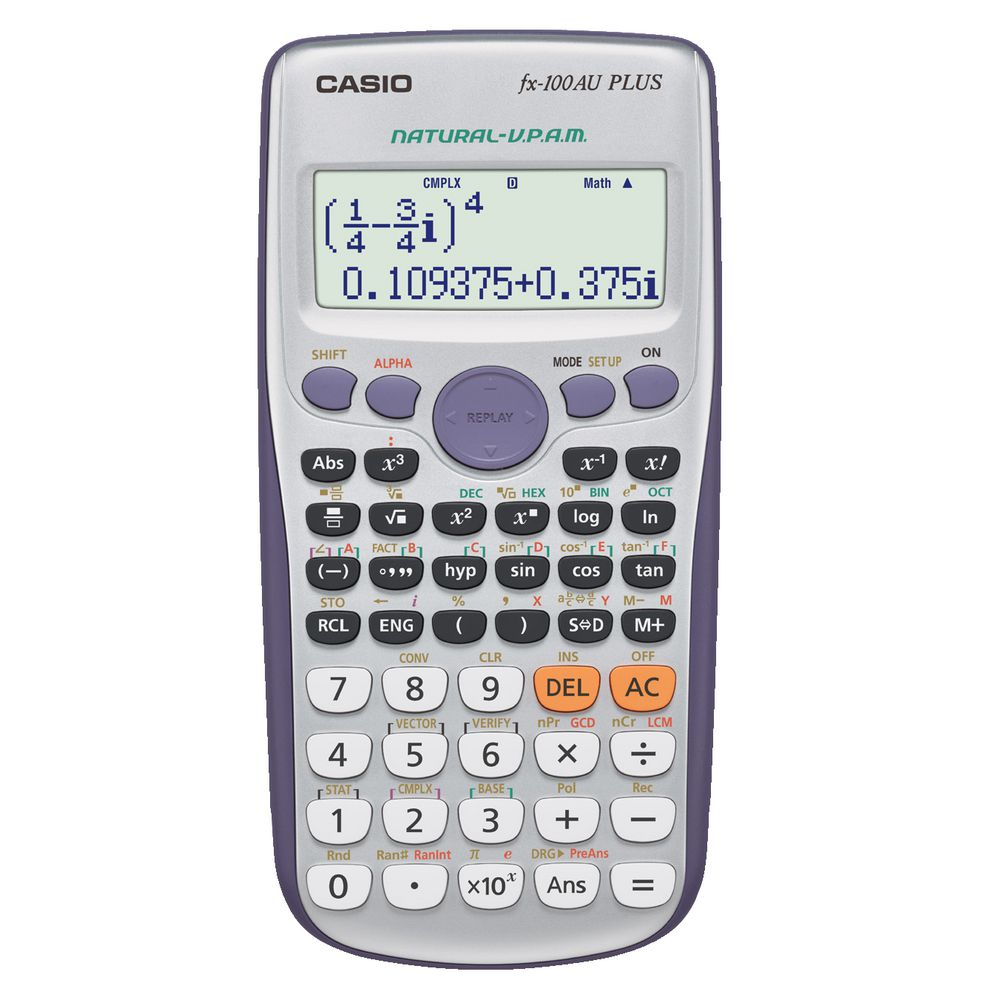Calculator: (242, 22, 727, 984)
